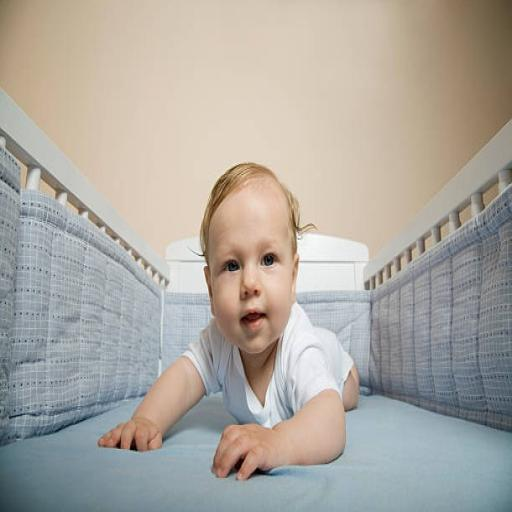baby: (99, 163, 358, 479)
crib: (0, 90, 511, 510)
